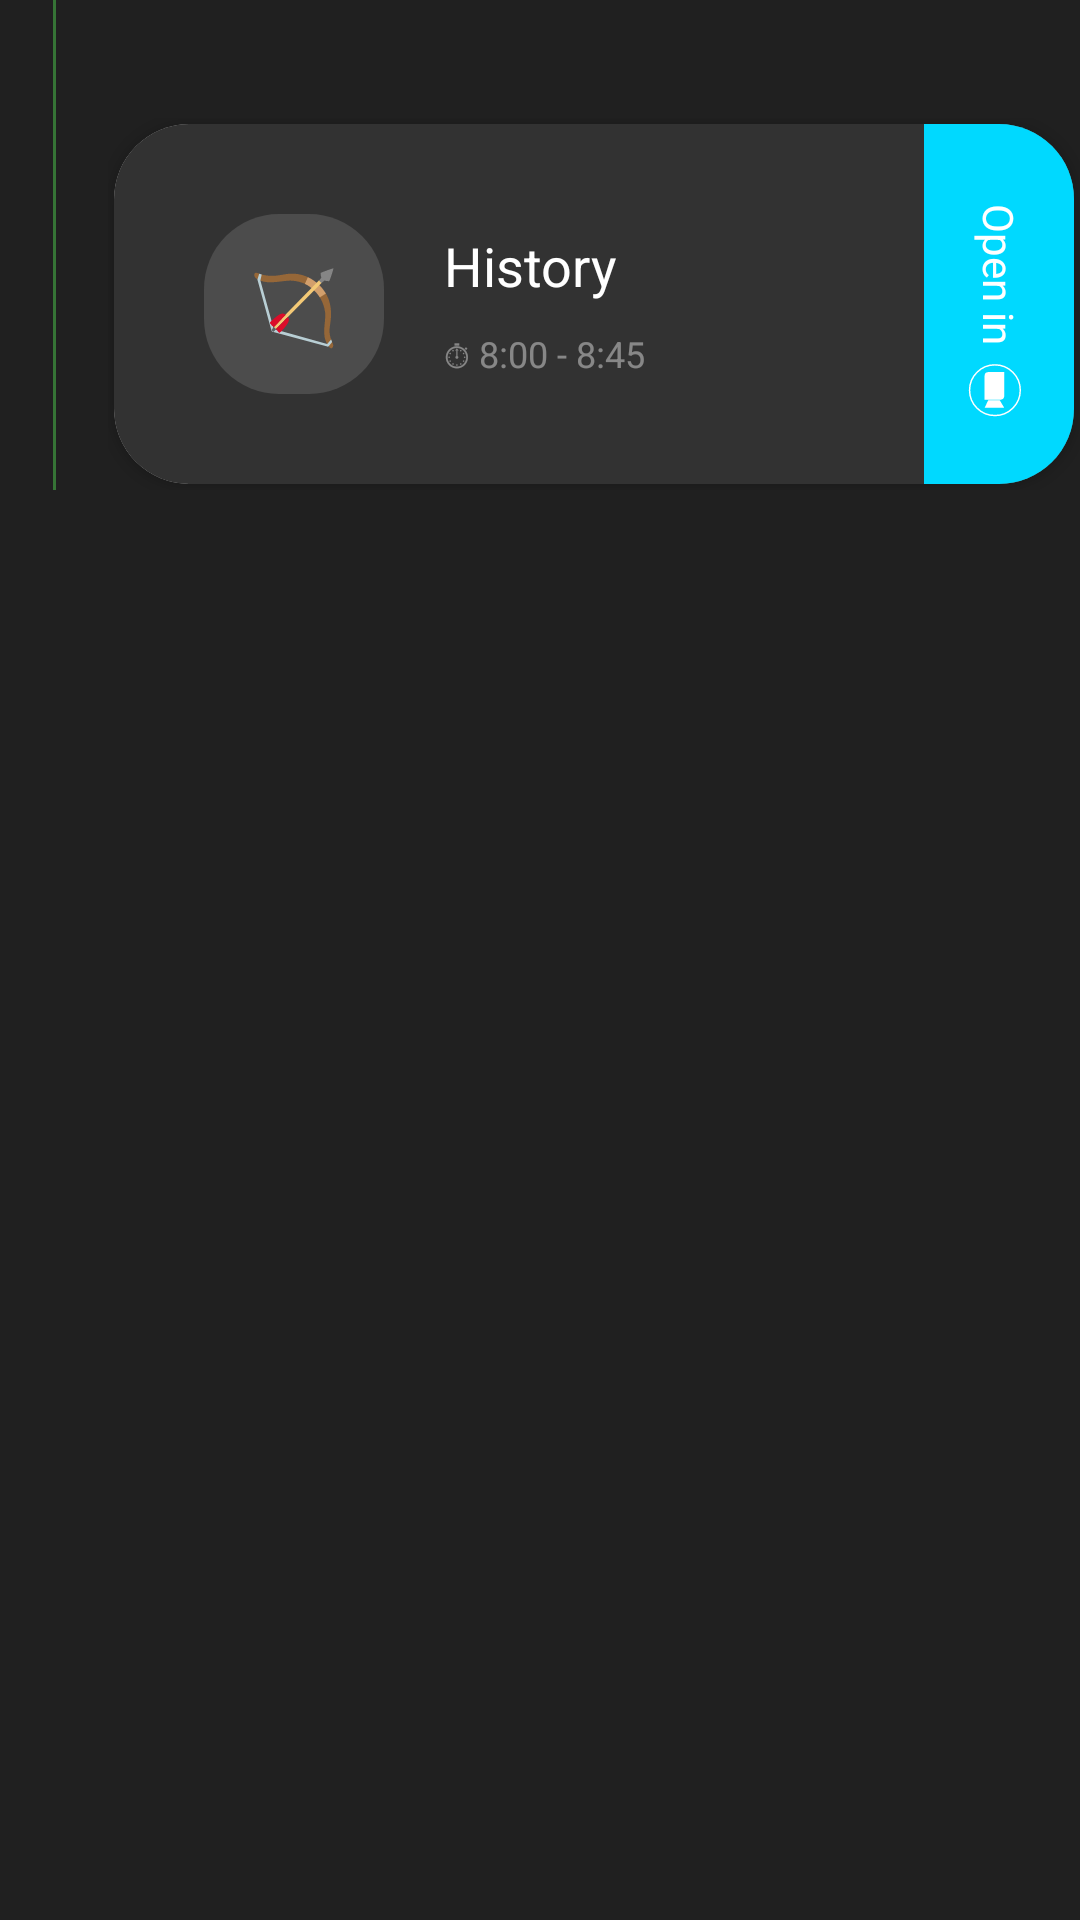

Icon bounding boxes for this 1080px×1920px phone screenshot, format bbox=[x1, y1, x2, y2]:
Event Icon: bbox=[204, 214, 384, 394]
